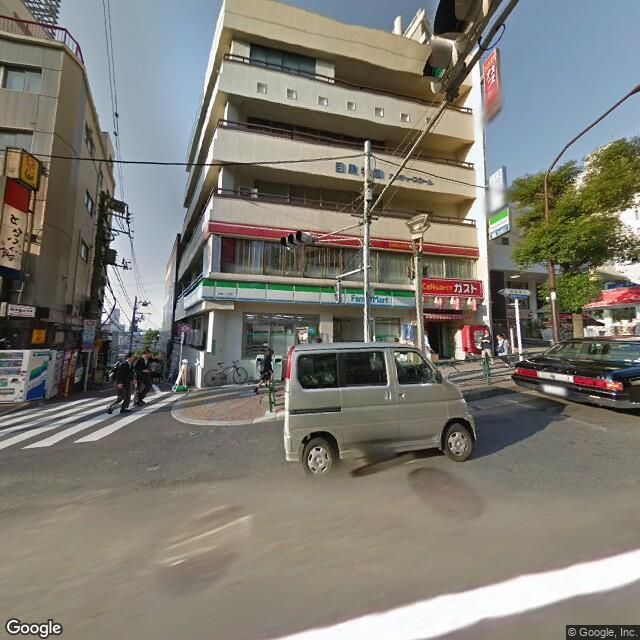family_mart: (199, 275, 418, 313), (489, 207, 511, 234)
